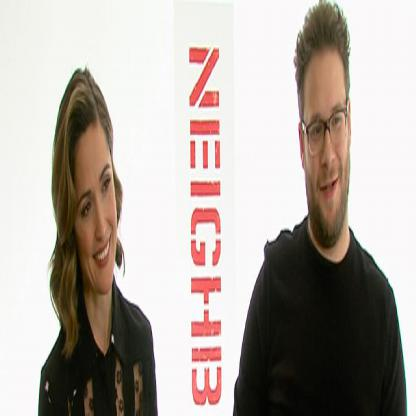face: (304, 47, 348, 244), (77, 115, 117, 298)
